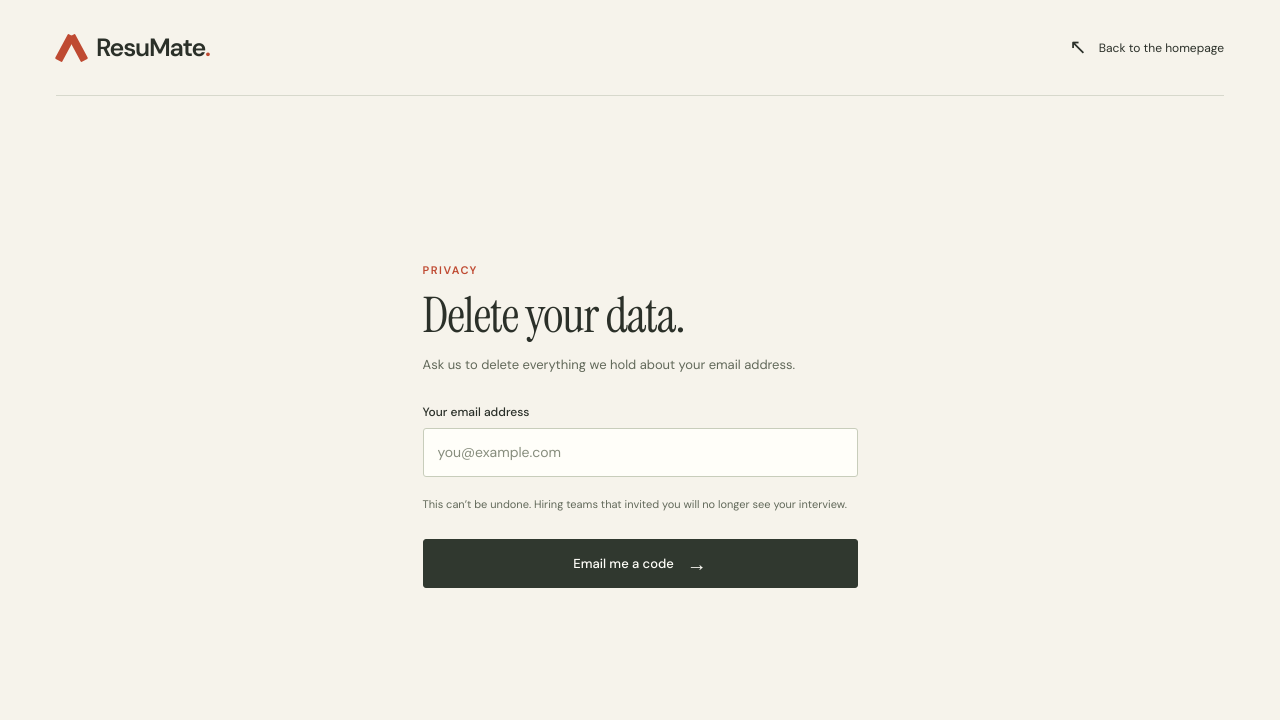
it: the deletion page › says it can’t be undone above each button
Check: the text "This can’t be undone." is shown, box [422,497,847,511]
Type "grace@x.com" into the field labelled "Your email address" at (640, 452), box [422,428,858,477]
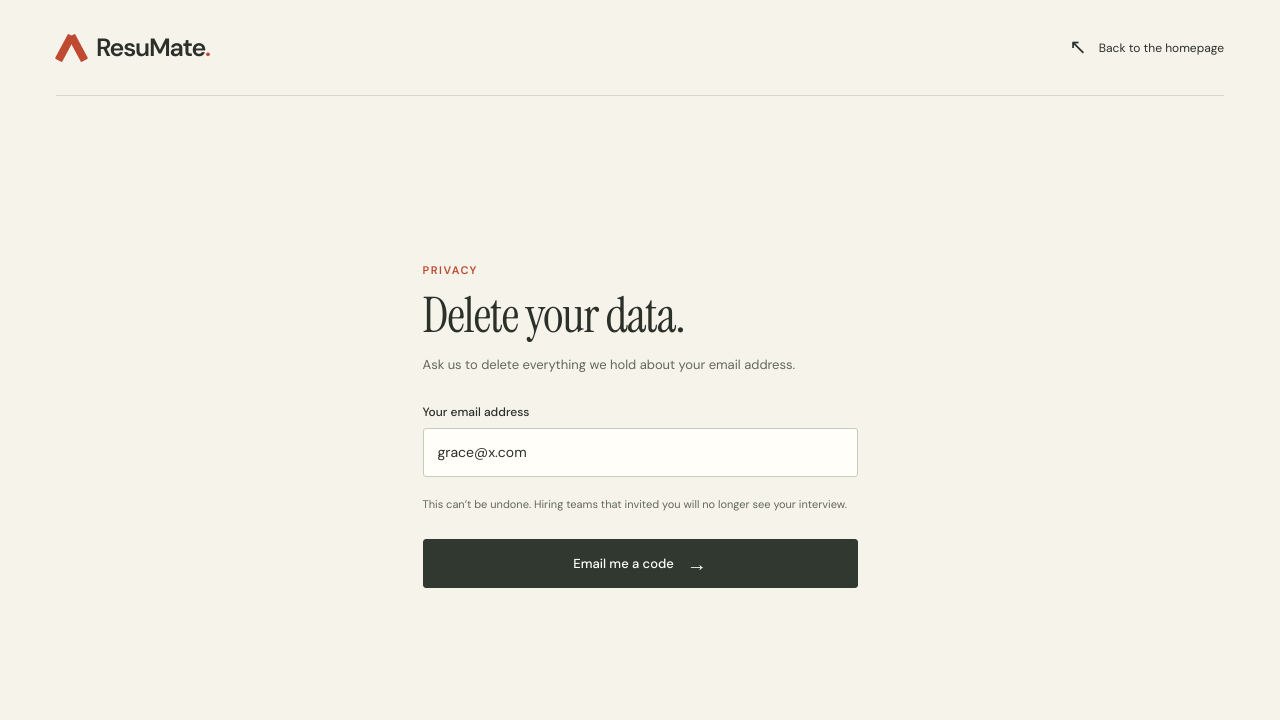
Click the button "Email me a code →" at (640, 564), box [422,539,858,588]
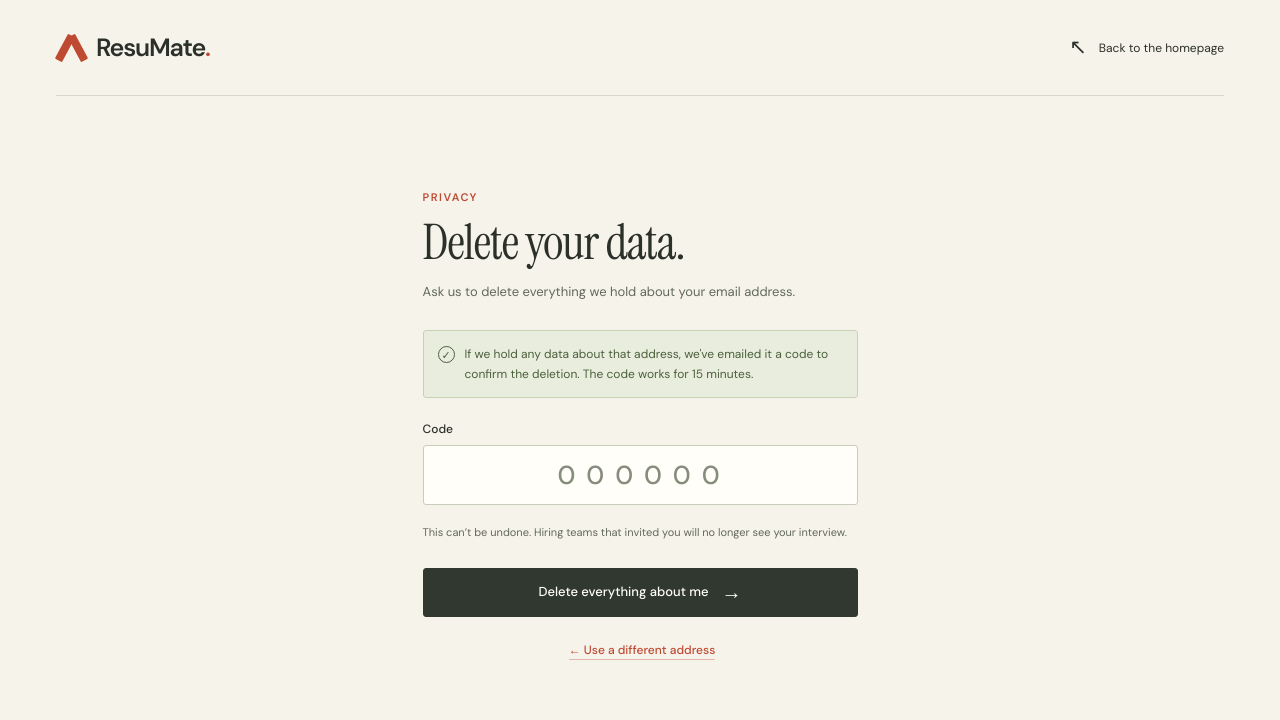
Check: the text "This can’t be undone." is shown, box [422,525,847,539]
Check: the field labelled "Code" is shown, box [422,445,858,505]
